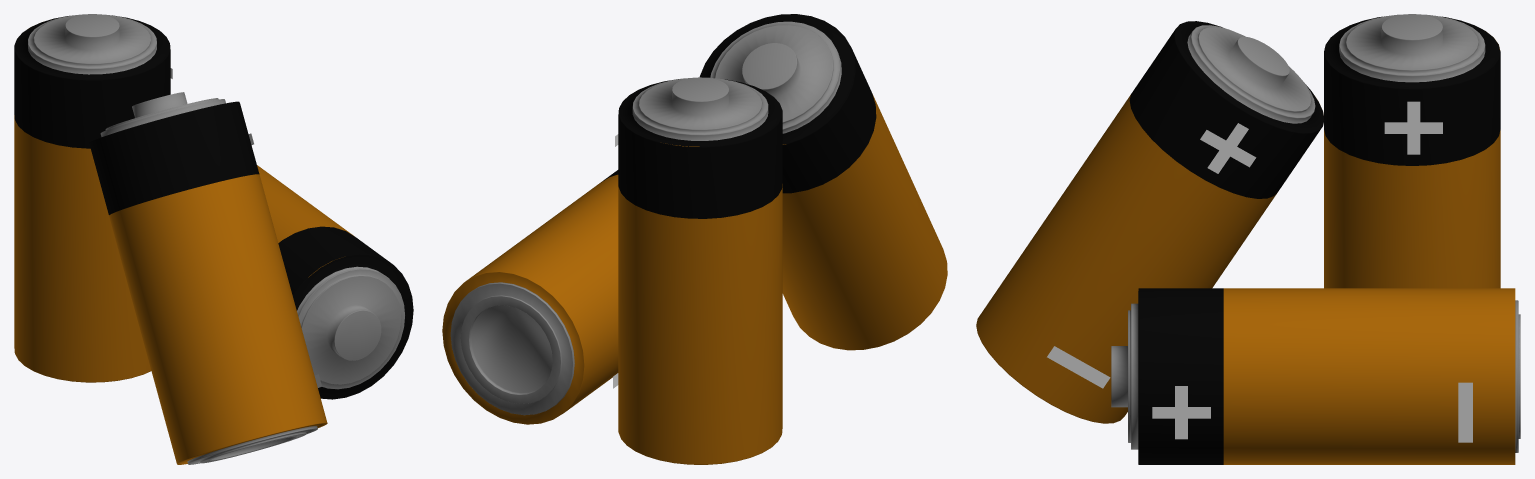
File: Battery-Bunch.fbx
3 views of the same model, side by side, from view 1: azimuth 30°, elevation 25°; view 2: azimuth 150°, elevation 25°; view 3: azimuth 270°, elevation 25° (orthographic). The views are drawn at different scales.
Parts seen in each view (by area): view 1: Cylinder; view 2: Cylinder; view 3: Cylinder.
Part boxes in pixels (left/top/right/bottom): Cylinder: left=14, top=14, right=413, bottom=464; Cylinder: left=442, top=14, right=947, bottom=464; Cylinder: left=976, top=14, right=1520, bottom=464.
Size of the model in its own units: 395 by 478 by 616.
